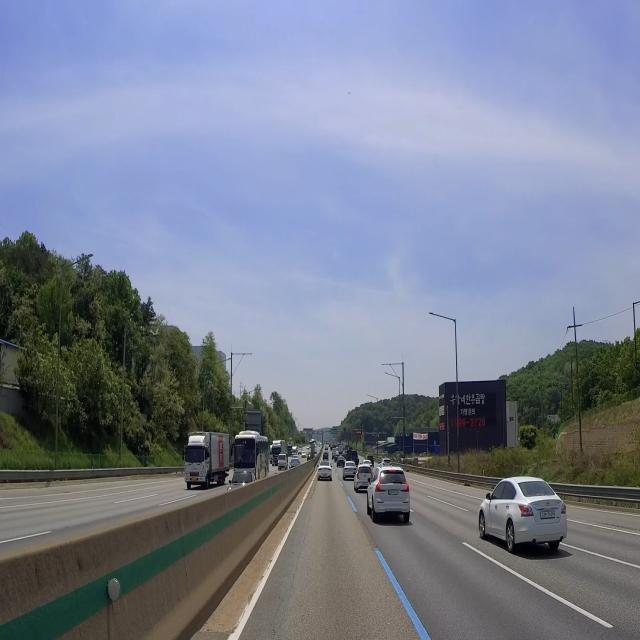car: (538, 509, 558, 525), (387, 487, 402, 499), (360, 477, 370, 493), (189, 473, 200, 487), (319, 471, 330, 482), (348, 469, 354, 474)
